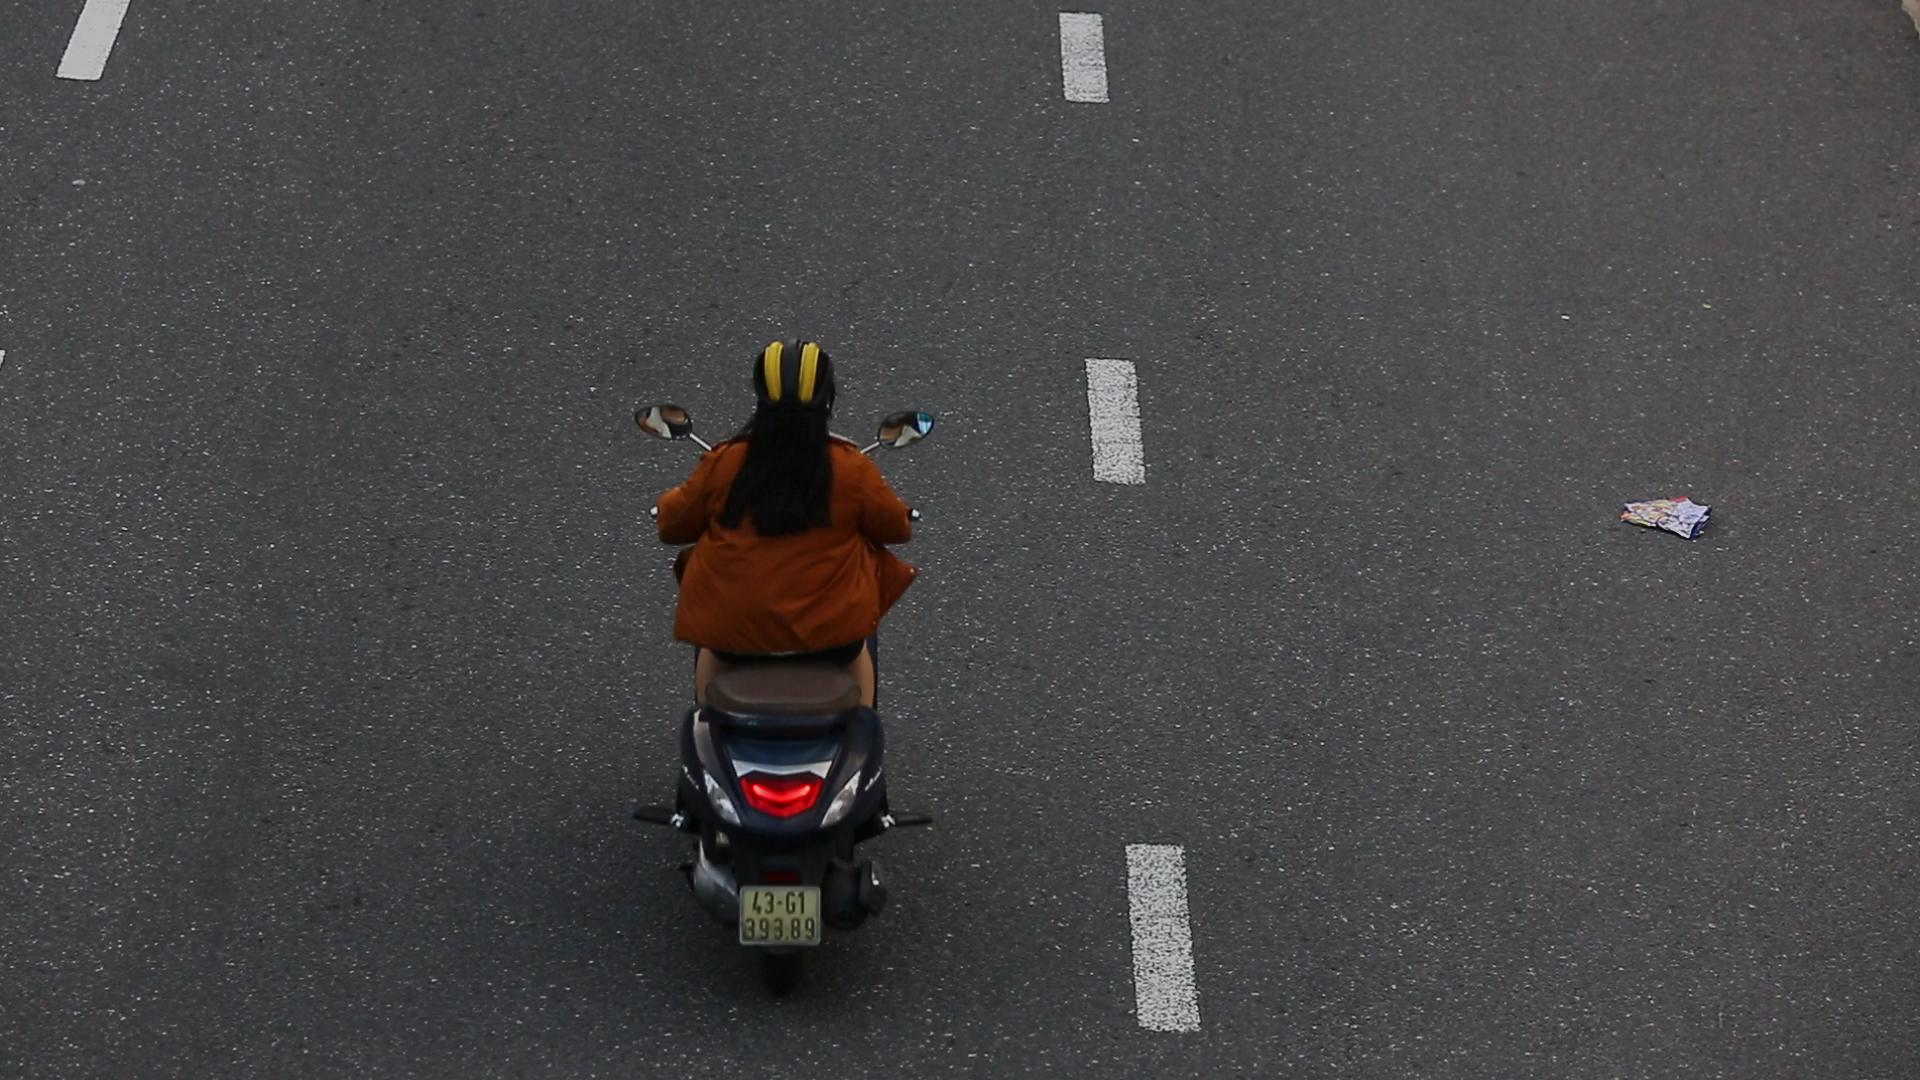motobike: (615, 340, 969, 1010)
